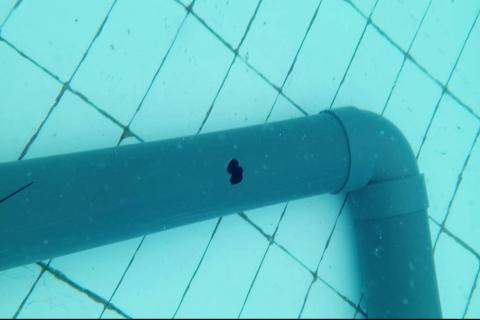kebocoran: (227, 156, 245, 185)
keretakan: (0, 178, 35, 203)
